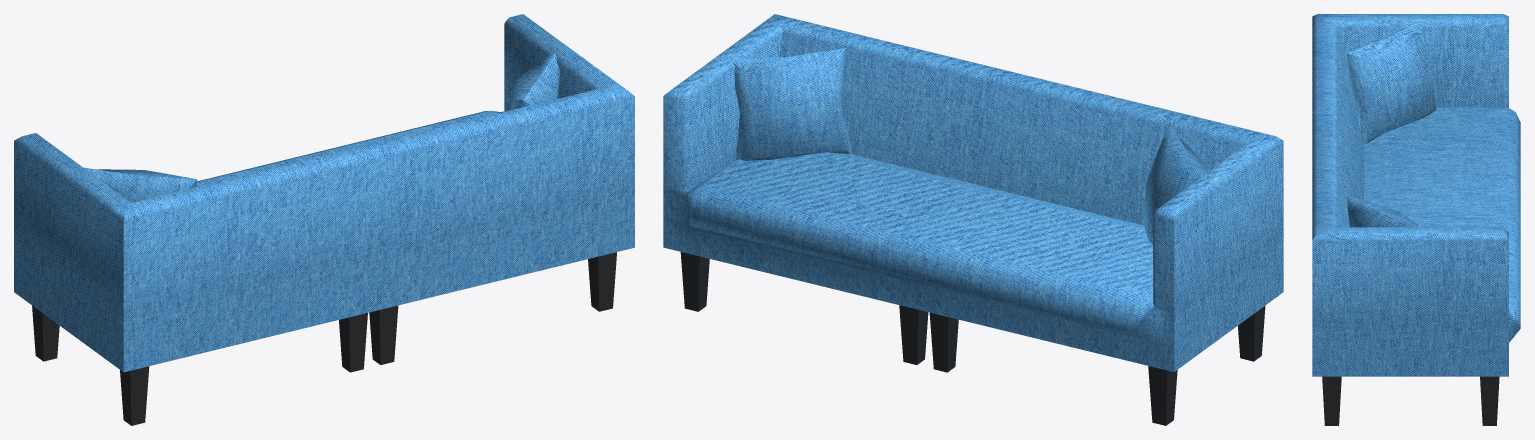
The model's file is Armchair_10.glb.
The picture shows the model from 3 angles, left to right: view 1: azimuth 30°, elevation 25°; view 2: azimuth 150°, elevation 25°; view 3: azimuth 270°, elevation 25°; orthographic projection. The views are drawn at different scales.
Parts seen in each view (by area): view 1: Armchair_10; view 2: Armchair_10; view 3: Armchair_10.
Boxes of the visible parts, left/top/right/bottom form: Armchair_10: left=14, top=14, right=634, bottom=425; Armchair_10: left=663, top=14, right=1283, bottom=425; Armchair_10: left=1312, top=14, right=1520, bottom=425.
Size of the model in its own units: 2.42 by 0.9923 by 0.9531.
2 materials, 2 textured.
